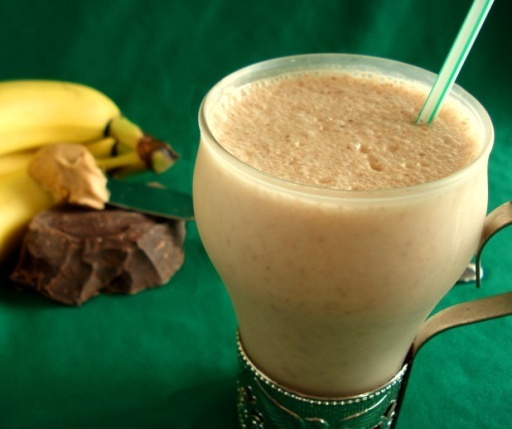background: (153, 47, 390, 265), (0, 53, 145, 175)
